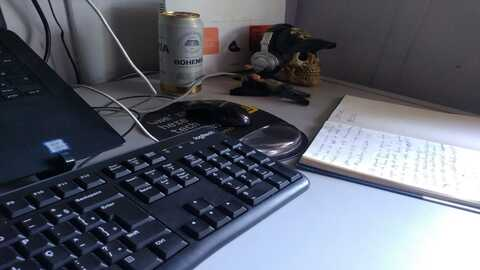bohemia: (153, 11, 208, 96)
